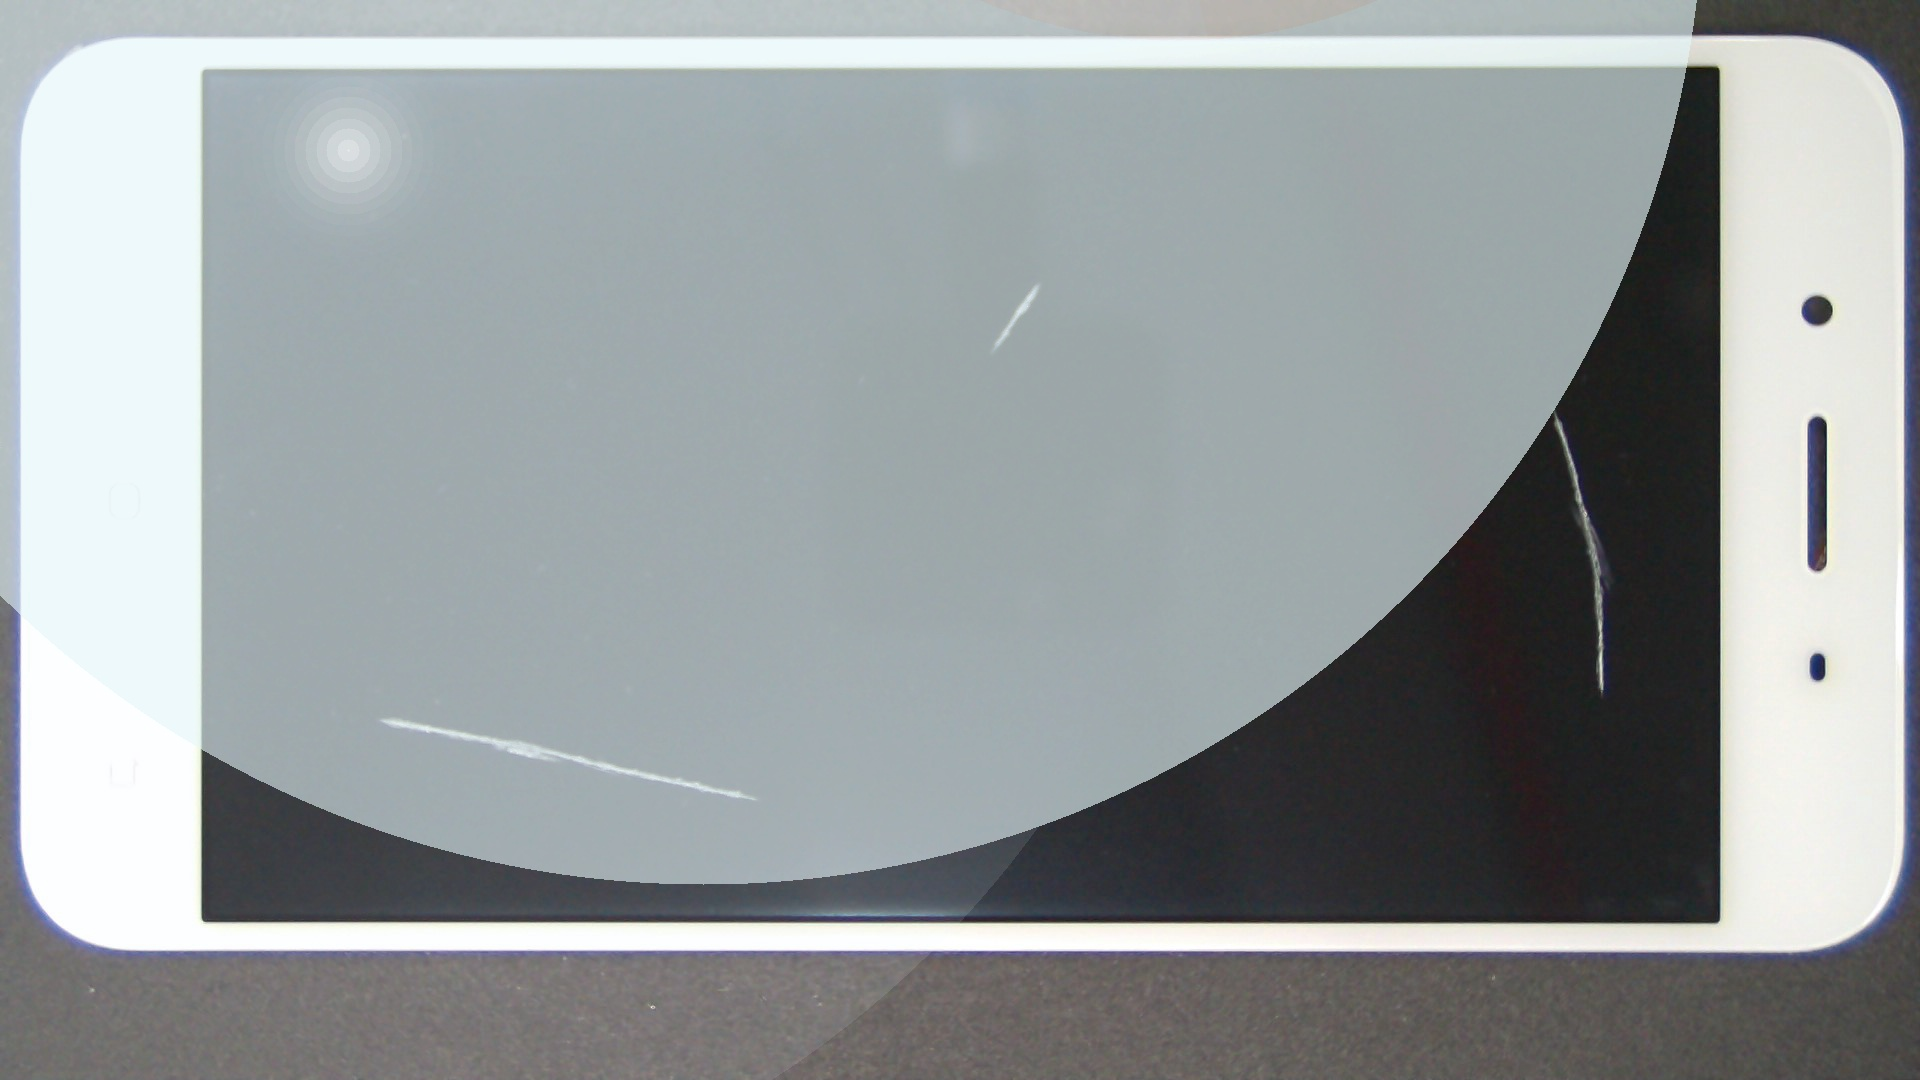oil: (775, 202, 1920, 615), (521, 140, 1560, 422), (196, 357, 589, 1075)
